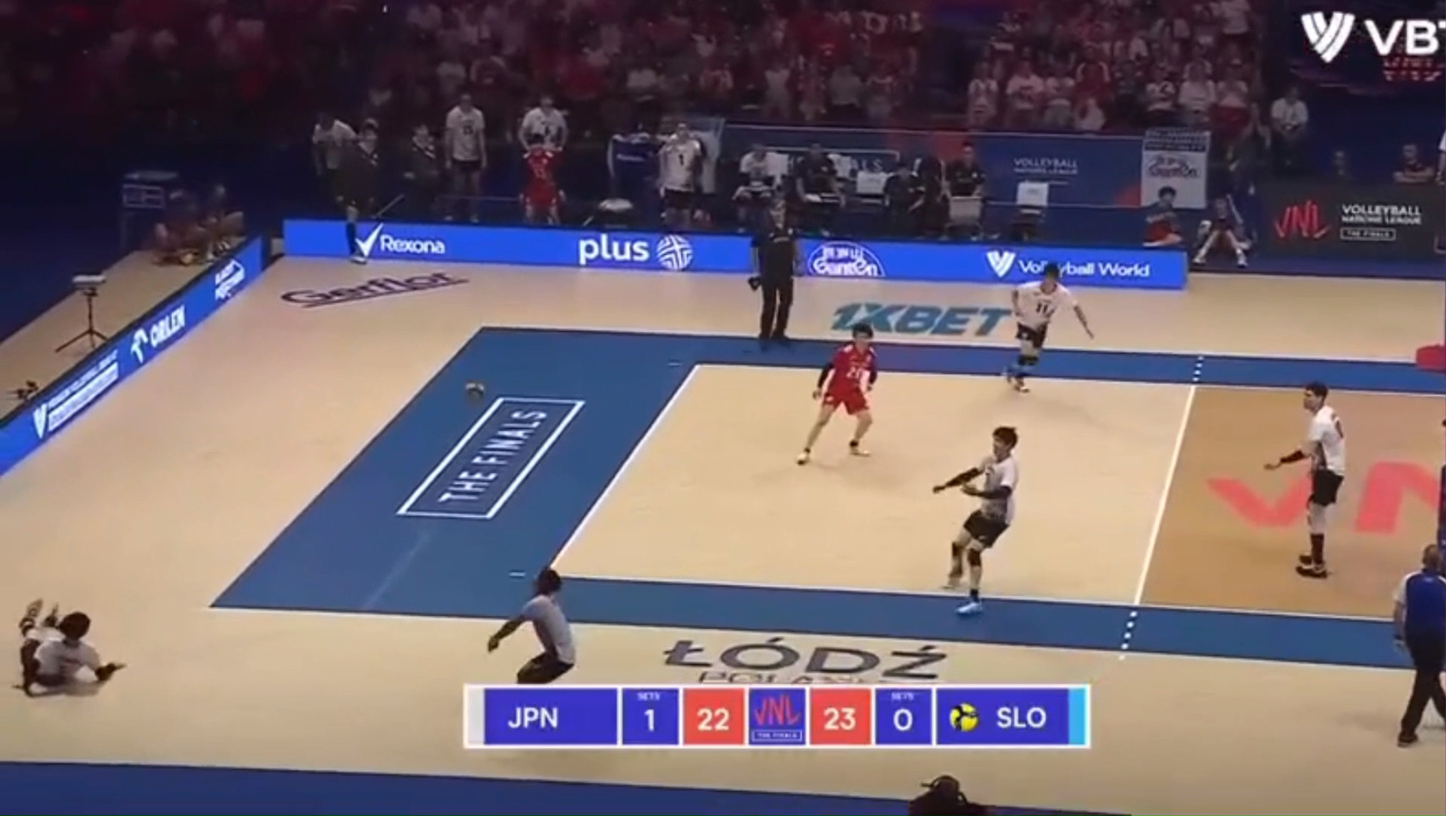ball: (464, 382, 484, 400)
player 1: (932, 426, 1018, 614), (1266, 382, 1346, 576), (797, 323, 878, 464), (1005, 263, 1093, 392), (488, 567, 576, 684), (18, 600, 123, 694)
referee: (1393, 544, 1445, 746), (749, 200, 798, 345)
